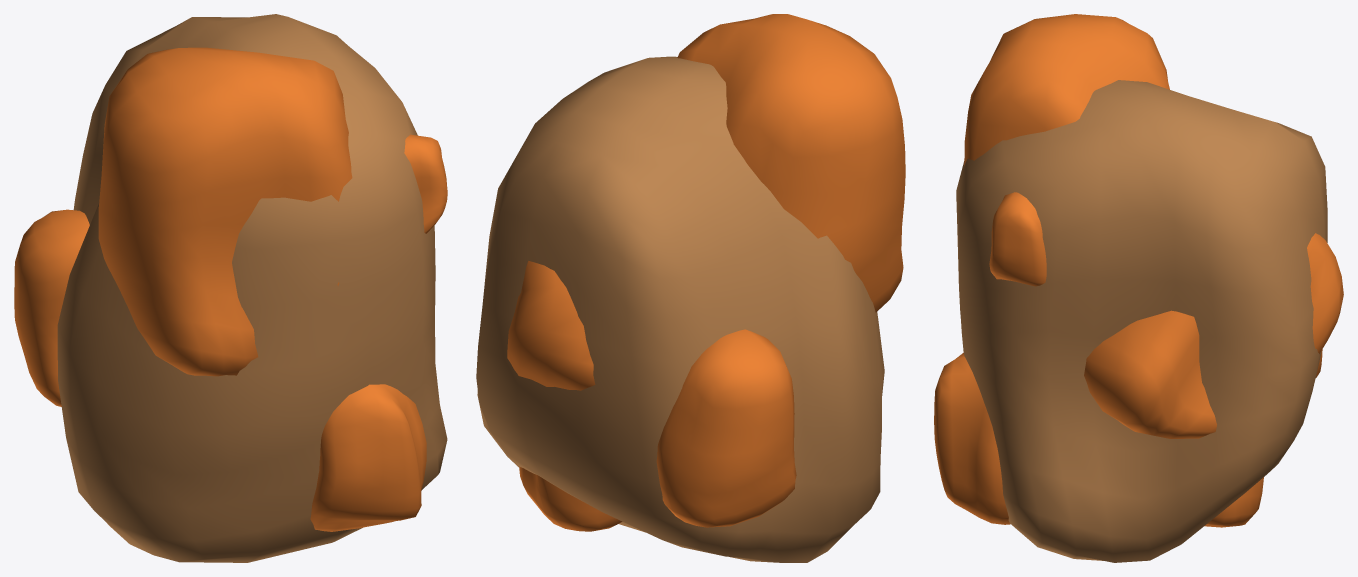
Rendered from 1ºFase_cobre.fbx.
3 renders of one model, left to right at view 1: azimuth 30°, elevation 25°; view 2: azimuth 150°, elevation 25°; view 3: azimuth 270°, elevation 25°, orthographic. The views are drawn at different scales.
Parts seen in each view (by area): view 1: Cube.028, Cube.029, Cube.032, Cube.031, Cube.034; view 2: Cube.028, Cube.029, Cube.031, Cube.030, Cube.033; view 3: Cube.028, Cube.029, Cube.030, Cube.032, Cube.034, Cube.033.
Boxes of the visible parts, x1=… form: Cube.028: x1=57, y1=14, x2=447, y2=562; Cube.029: x1=98, y1=47, x2=352, y2=376; Cube.032: x1=310, y1=384, x2=426, y2=531; Cube.031: x1=14, y1=209, x2=89, y2=406; Cube.034: x1=404, y1=134, x2=447, y2=233; Cube.028: x1=476, y1=56, x2=884, y2=562; Cube.029: x1=677, y1=14, x2=905, y2=312; Cube.031: x1=656, y1=329, x2=796, y2=527; Cube.030: x1=507, y1=261, x2=595, y2=390; Cube.033: x1=519, y1=466, x2=622, y2=531; Cube.028: x1=956, y1=80, x2=1327, y2=562; Cube.029: x1=957, y1=14, x2=1169, y2=238; Cube.030: x1=1084, y1=233, x2=1343, y2=438; Cube.032: x1=934, y1=353, x2=1010, y2=524; Cube.034: x1=989, y1=192, x2=1046, y2=286; Cube.033: x1=1204, y1=477, x2=1263, y2=527.
Bounding box in the file's own units: 67.32 × 93.71 × 73.23.
